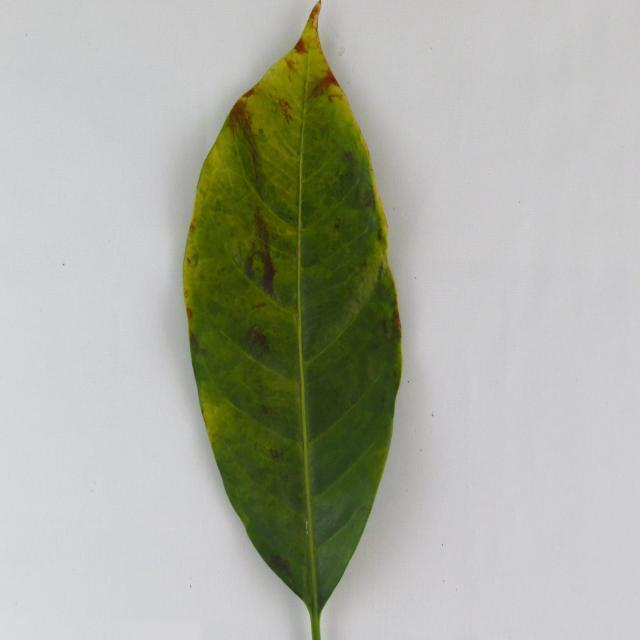DeficienciaNutricional-Nitrogeno: (184, 0, 399, 636)
